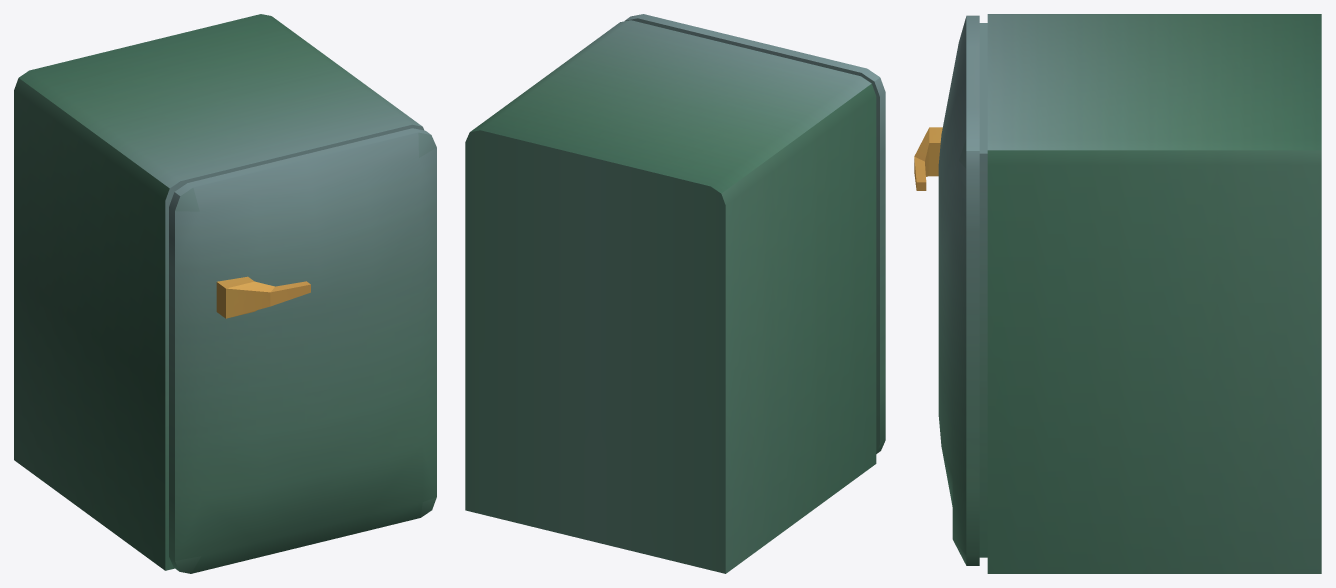
Rendered from sp_refrigerator_kitchen_a.fbx.
The picture shows the model from 3 angles, left to right: view 1: azimuth 30°, elevation 25°; view 2: azimuth 150°, elevation 25°; view 3: azimuth 270°, elevation 25°; orthographic projection. The views are drawn at different scales.
Visible parts, largest first — view 1: sp_refrigerator_kitchen_a; view 2: sp_refrigerator_kitchen_a; view 3: sp_refrigerator_kitchen_a.
Boxes of the visible parts, x1,y1,x2,y2 form: sp_refrigerator_kitchen_a: (14, 14, 436, 573); sp_refrigerator_kitchen_a: (465, 14, 885, 573); sp_refrigerator_kitchen_a: (914, 14, 1321, 573).
Bounding box in the file's own units: 66.22 × 93.24 × 80.76.
